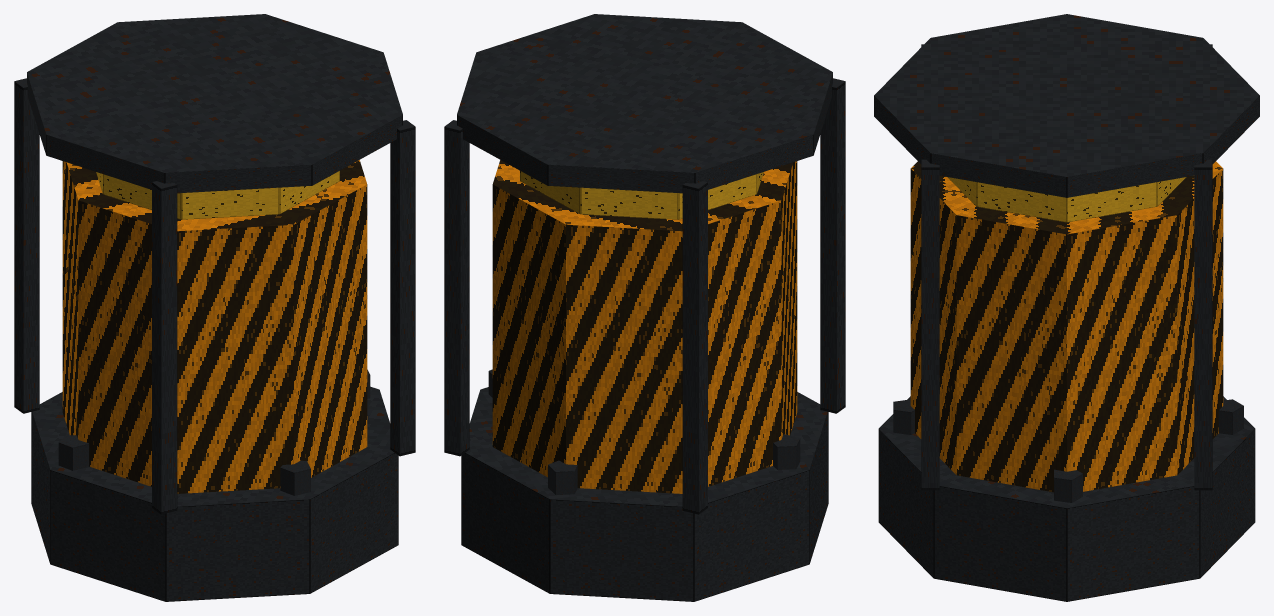
File: emergency_beacon.glb
The picture shows the model from 3 angles, left to right: view 1: azimuth 30°, elevation 25°; view 2: azimuth 150°, elevation 25°; view 3: azimuth 270°, elevation 25°; orthographic projection.
Parts seen in each view (by area): view 1: emergency_beacon; view 2: emergency_beacon; view 3: emergency_beacon.
Part boxes in pixels (x1,y1,x2,y2): emergency_beacon: (14,14,415,601); emergency_beacon: (444,14,845,601); emergency_beacon: (874,14,1259,601).
Size of the model in its own units: 0.168 by 0.205 by 0.168.
1 material, 1 textured.
